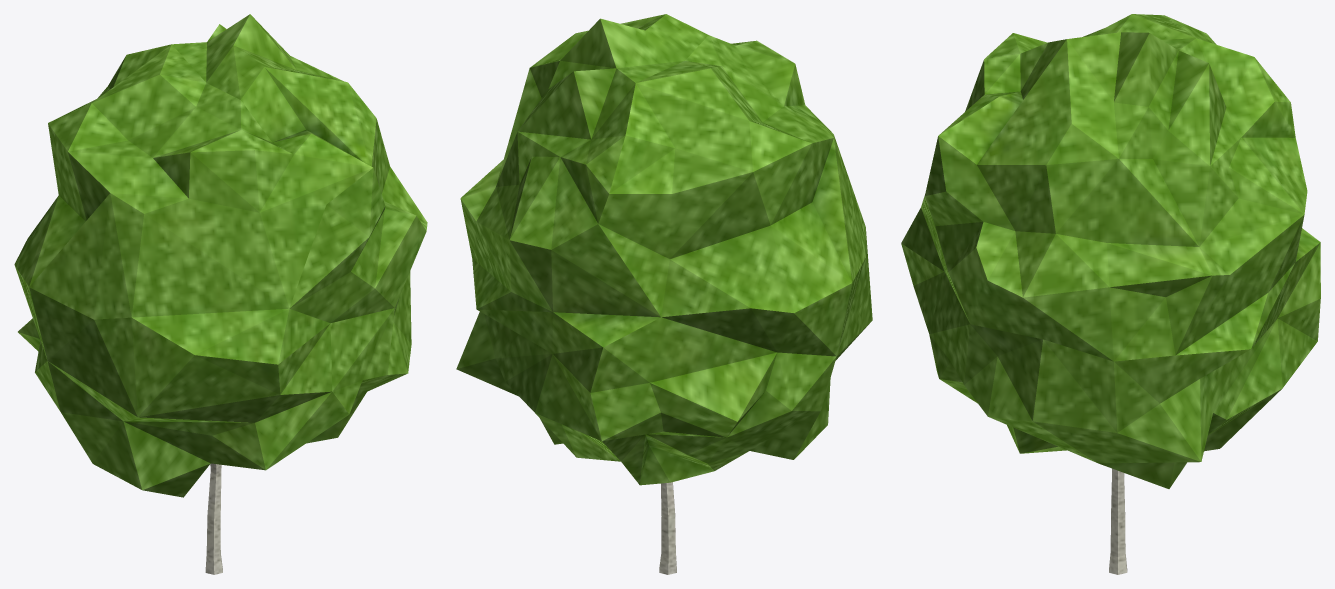
Rendered from birch.glb.
3 views of the same model, side by side, from view 1: azimuth 30°, elevation 25°; view 2: azimuth 150°, elevation 25°; view 3: azimuth 270°, elevation 25° (orthographic). The views are drawn at different scales.
Visible parts, largest first — view 1: BirchTree_mesh; view 2: BirchTree_mesh; view 3: BirchTree_mesh.
Boxes of the visible parts, <box> form: BirchTree_mesh: <box>14,14,427,574</box>; BirchTree_mesh: <box>456,14,872,574</box>; BirchTree_mesh: <box>901,14,1320,574</box>.
Bounding box in the file's own units: 8.48 × 12.34 × 8.33.
1 material, 1 textured.
